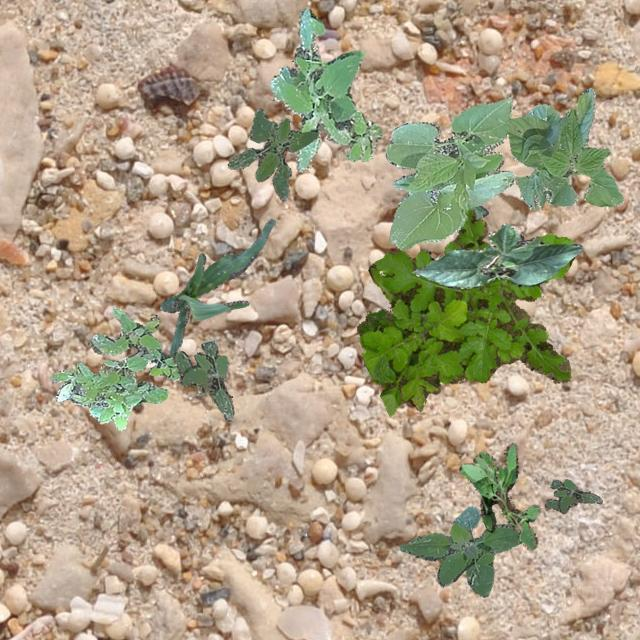crop: (384, 94, 516, 250), (158, 218, 274, 356), (507, 86, 622, 210), (412, 222, 582, 288), (522, 104, 556, 210), (470, 204, 488, 220)
weed: (359, 207, 573, 416), (269, 8, 382, 170), (50, 306, 178, 429), (398, 506, 522, 596), (458, 442, 540, 548), (226, 108, 318, 200), (170, 340, 232, 420), (544, 478, 602, 512), (356, 308, 396, 334)
